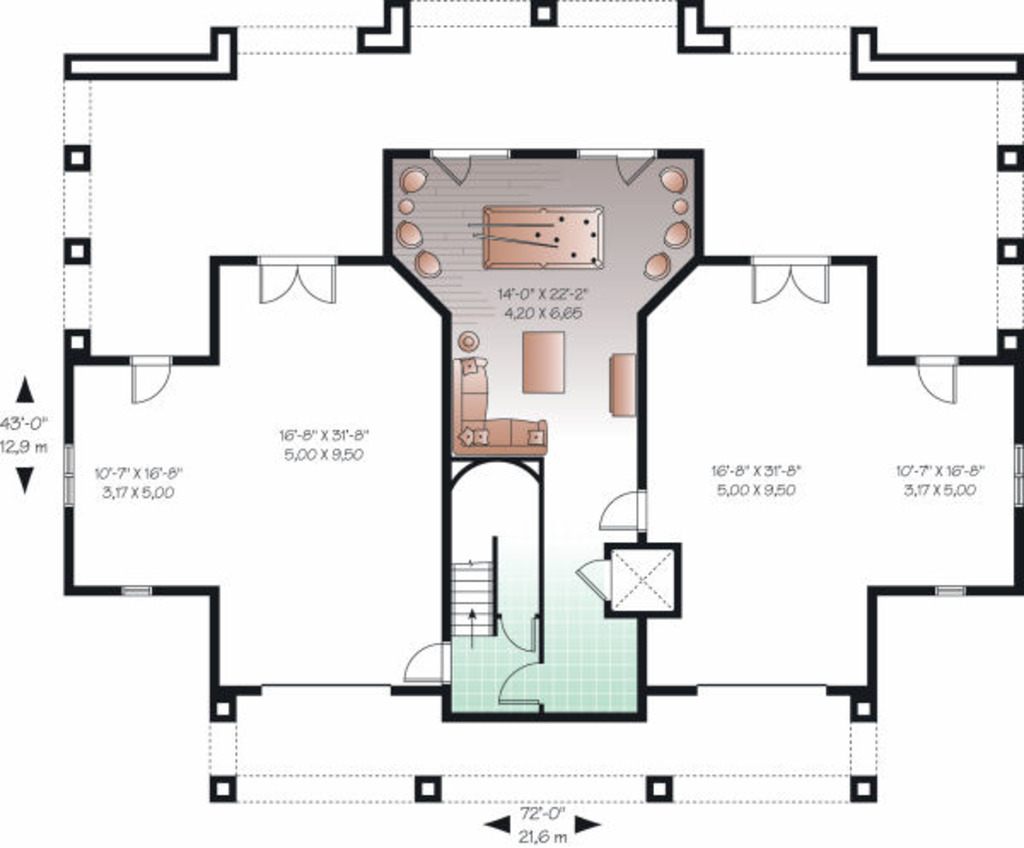door: (255, 261, 342, 310), (749, 263, 835, 311), (397, 641, 453, 689), (124, 356, 175, 407), (912, 358, 961, 404), (599, 489, 643, 537), (496, 661, 541, 706), (427, 147, 476, 183), (577, 557, 613, 601), (500, 616, 539, 656), (613, 150, 650, 187)
large_sofa: (445, 355, 552, 454)
stairs: (450, 555, 491, 649)
windows: (61, 438, 78, 510), (117, 582, 153, 597), (930, 584, 967, 598)
